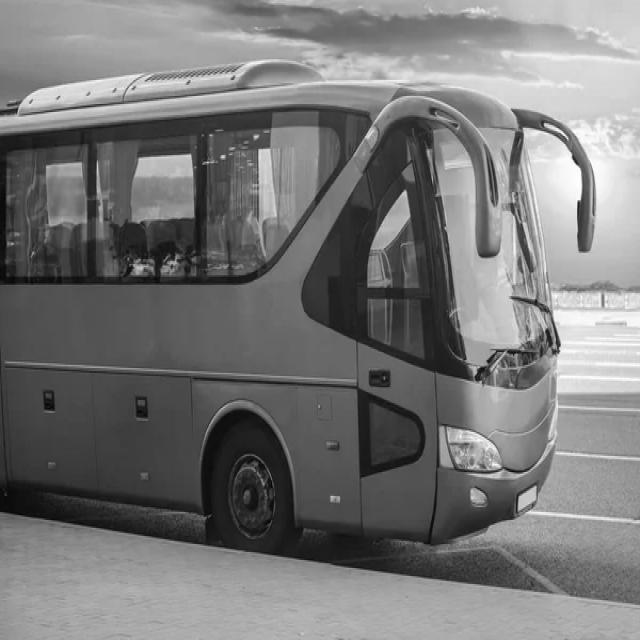Bus: (0, 61, 597, 553)
